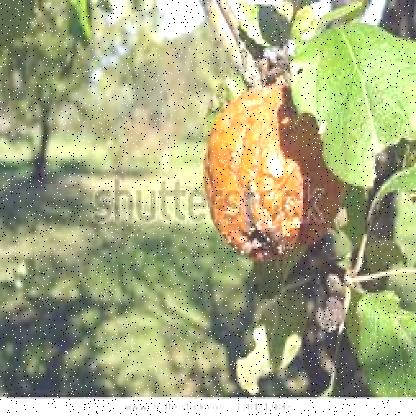damaged_apple: (200, 86, 344, 258)
